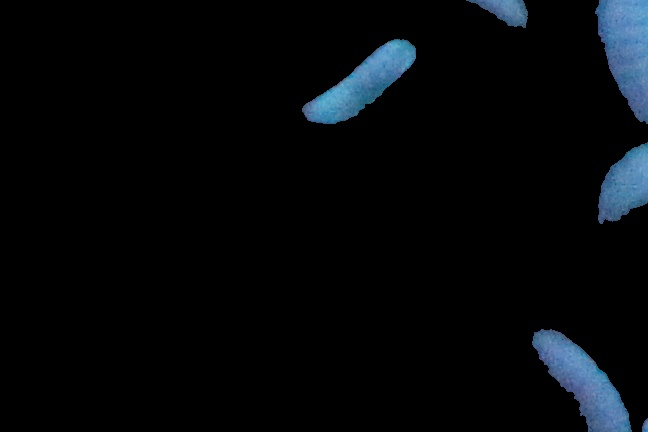larvae: (527, 322, 642, 432), (296, 38, 415, 128), (585, 1, 648, 131)
